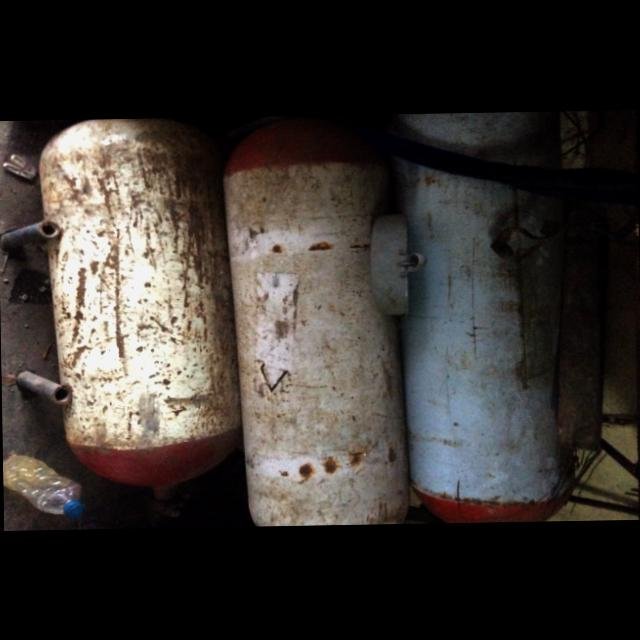Cylinders: (40, 119, 243, 498), (222, 120, 408, 526)
